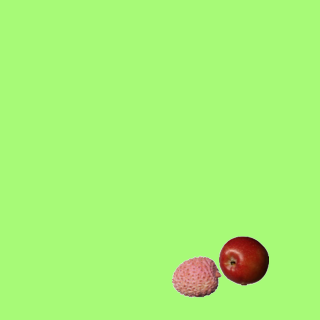Apple Braeburn: (218, 235, 268, 285)
Lychee: (171, 251, 221, 301)
